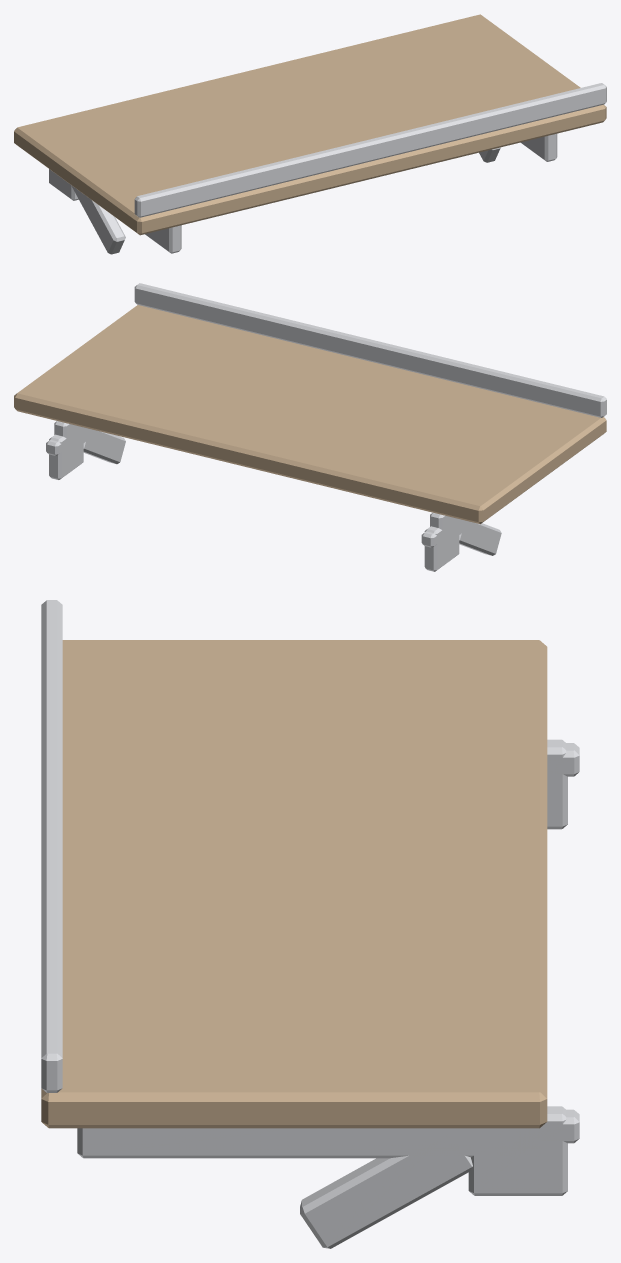
The model's file is SM_Retail_25166_SlatwallShelfBracket.fbx.
3 views of the same model, one above another, from view 1: azimuth 30°, elevation 25°; view 2: azimuth 150°, elevation 25°; view 3: azimuth 270°, elevation 25° (orthographic). The views are drawn at different scales.
Visible parts, largest first — view 1: SM_Retail_25166_SlatwallShelfBracket; view 2: SM_Retail_25166_SlatwallShelfBracket; view 3: SM_Retail_25166_SlatwallShelfBracket.
Part boxes in pixels (x1,y1,x2,y2): SM_Retail_25166_SlatwallShelfBracket: (14, 14, 606, 254); SM_Retail_25166_SlatwallShelfBracket: (14, 283, 606, 571); SM_Retail_25166_SlatwallShelfBracket: (41, 600, 579, 1248).
Bounding box in the file's own units: 60 × 29.8 × 14.36.
